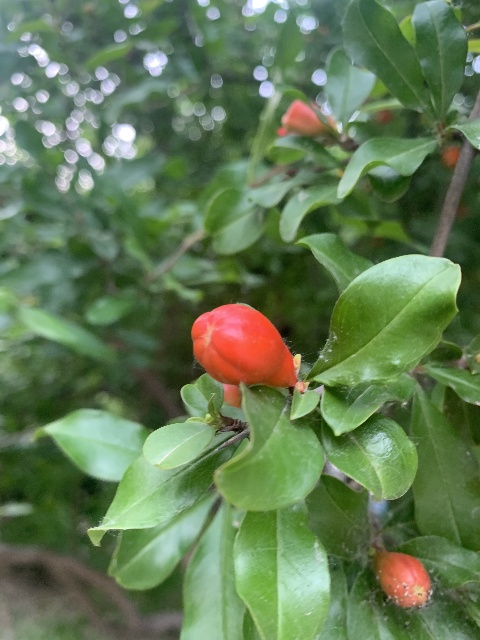bud: (190, 303, 297, 389), (373, 551, 431, 608)
